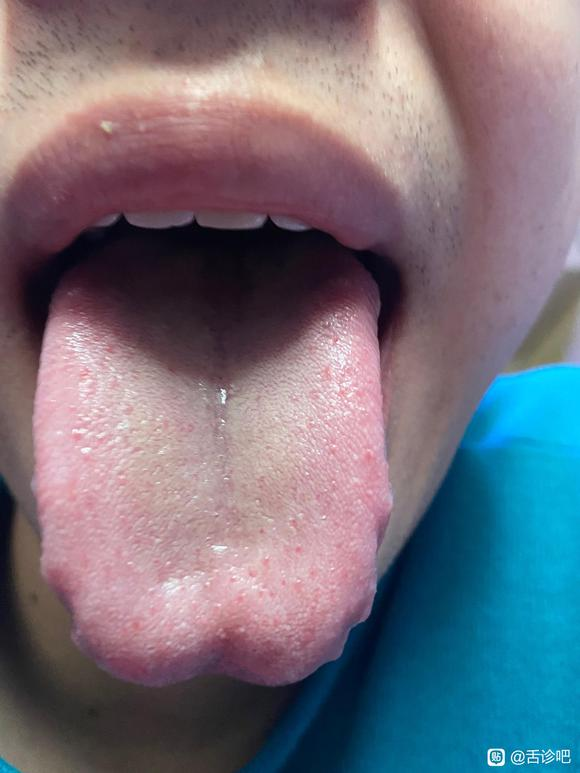huangtaishe: (31, 244, 393, 688)
xinfeiao: (135, 642, 284, 688)
